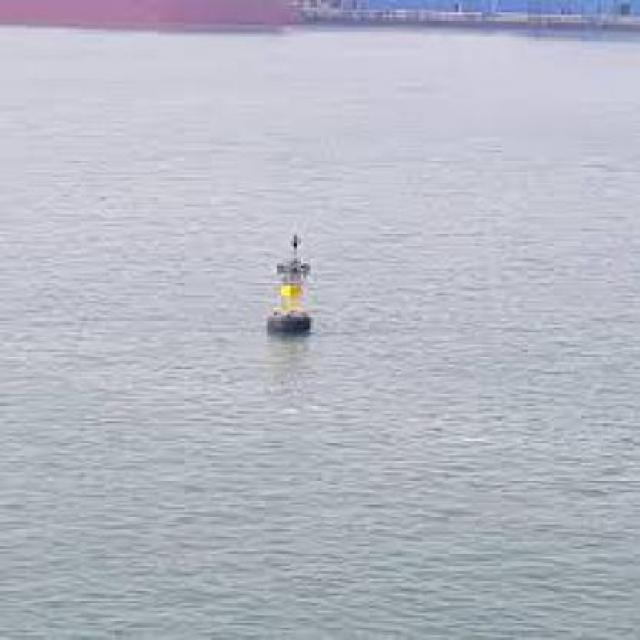buoy: (259, 230, 328, 344)
